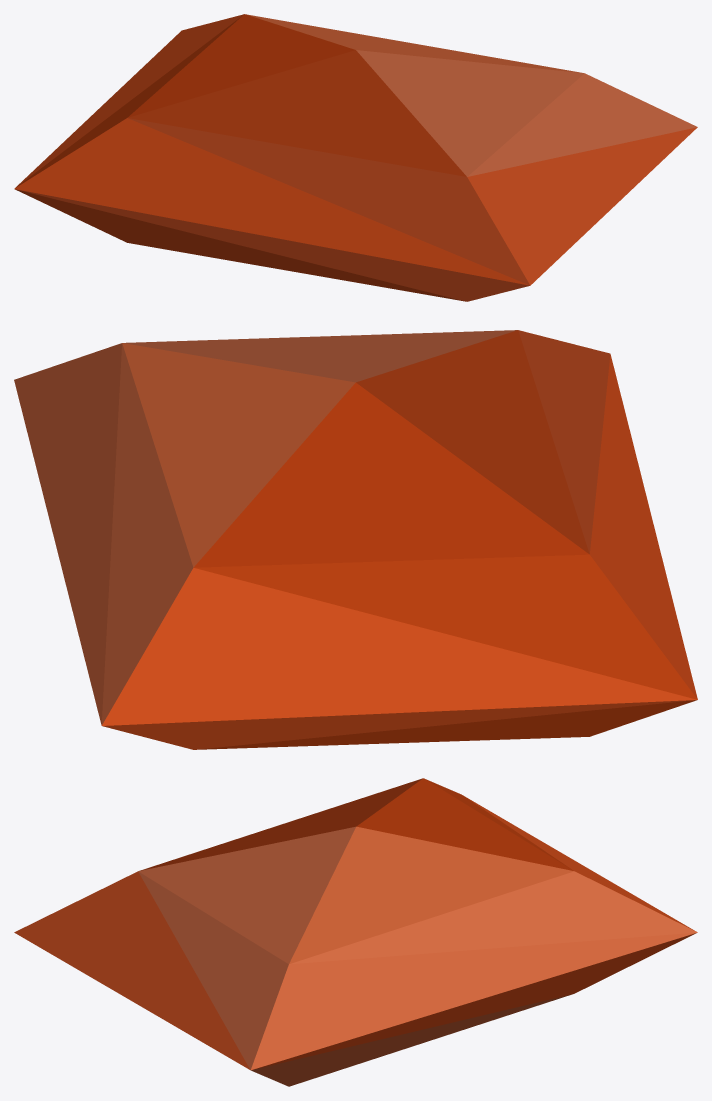
File: prop_treasure_gem_ruby_1.fbx
3 views of the same model, one above another, from view 1: azimuth 30°, elevation 25°; view 2: azimuth 150°, elevation 25°; view 3: azimuth 270°, elevation 25° (orthographic). The views are drawn at different scales.
Parts seen in each view (by area): view 1: prop_treasure_gem_ruby_1; view 2: prop_treasure_gem_ruby_1; view 3: prop_treasure_gem_ruby_1.
Boxes of the visible parts, x1,y1,x2,y2 form: prop_treasure_gem_ruby_1: [14, 14, 697, 301]; prop_treasure_gem_ruby_1: [14, 330, 697, 749]; prop_treasure_gem_ruby_1: [14, 778, 697, 1086].
Bounding box in the file's own units: 0.4772 × 0.1708 × 0.5001.
